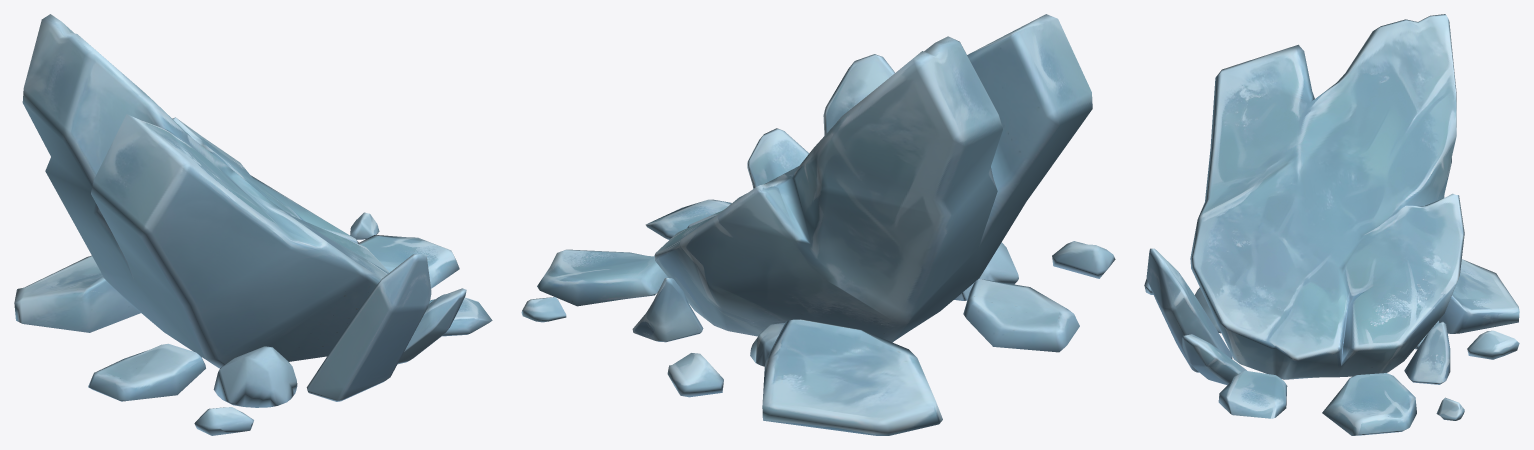
Rendered from icechunk_tripo.glb.
3 views of the same model, side by side, from view 1: azimuth 30°, elevation 25°; view 2: azimuth 150°, elevation 25°; view 3: azimuth 270°, elevation 25° (orthographic). The views are drawn at different scales.
Parts seen in each view (by area): view 1: tripo_node_9e208653-49b7-4d19-932f-492dcbb4d244; view 2: tripo_node_9e208653-49b7-4d19-932f-492dcbb4d244; view 3: tripo_node_9e208653-49b7-4d19-932f-492dcbb4d244.
Boxes of the visible parts, x1,y1,x2,y2 form: tripo_node_9e208653-49b7-4d19-932f-492dcbb4d244: (14, 14, 492, 435); tripo_node_9e208653-49b7-4d19-932f-492dcbb4d244: (521, 14, 1115, 435); tripo_node_9e208653-49b7-4d19-932f-492dcbb4d244: (1144, 14, 1519, 435).
Size of the model in its own units: 0.998 by 0.7363 by 0.9082.
1 material, 1 textured.
